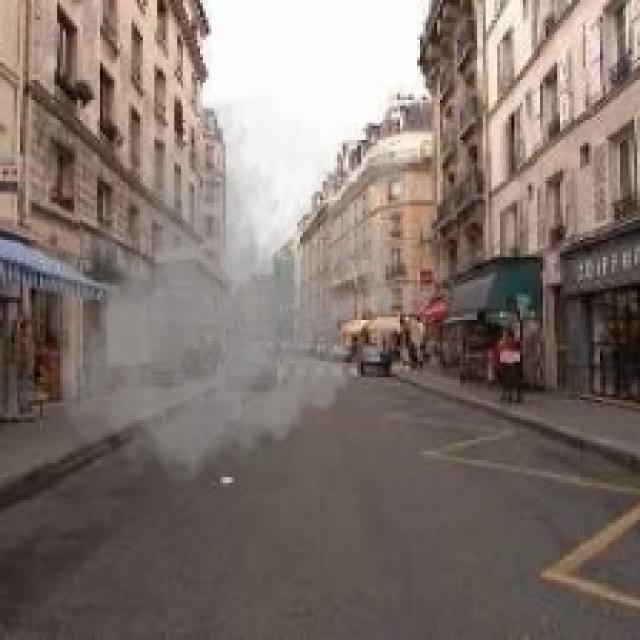Smoke: (20, 74, 423, 497)
